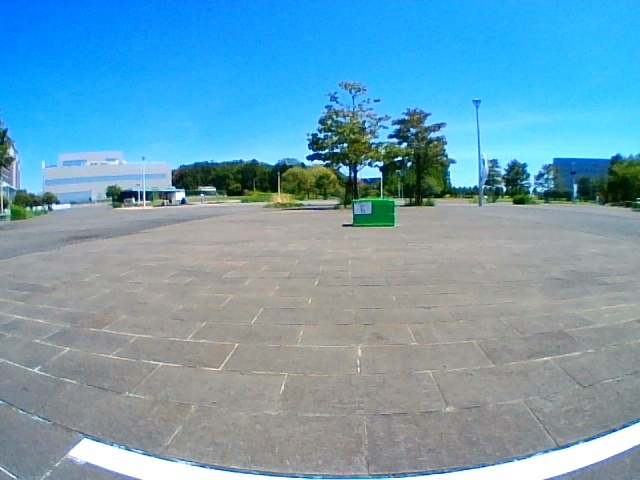green_box: (353, 199, 394, 226)
tag: (355, 202, 370, 214)
